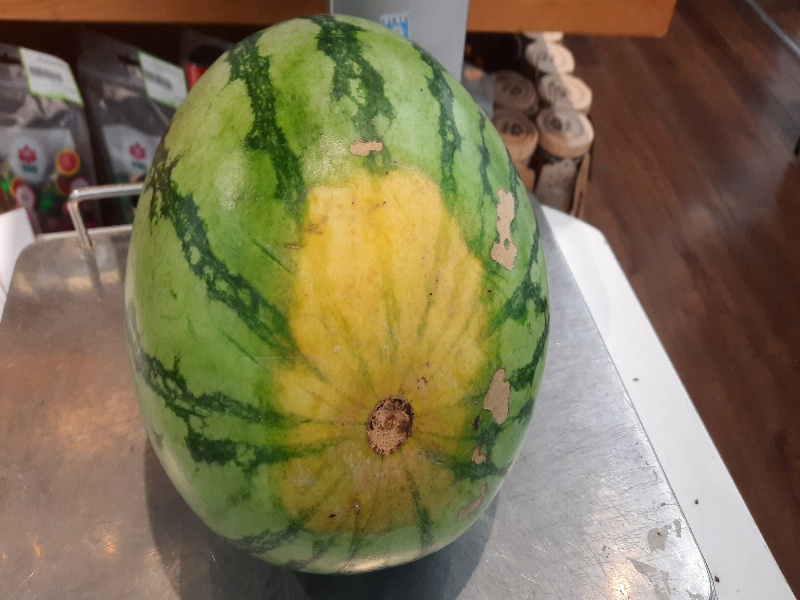fruit: (128, 13, 553, 585)
